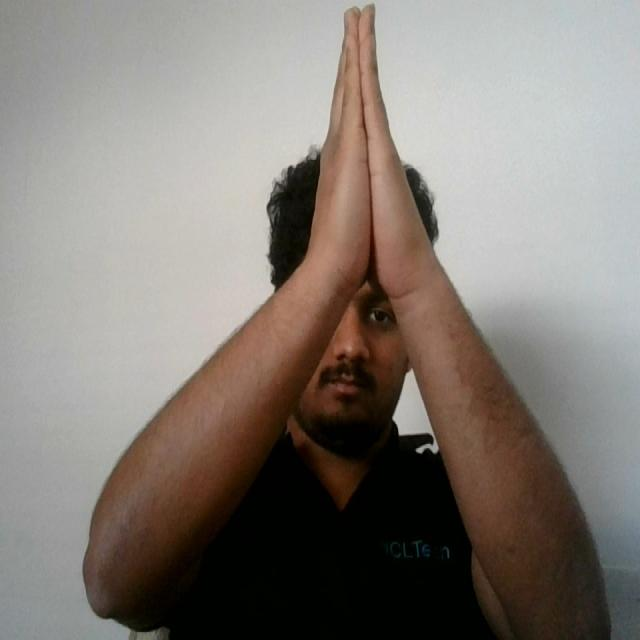Thanks: (295, 0, 430, 305)
